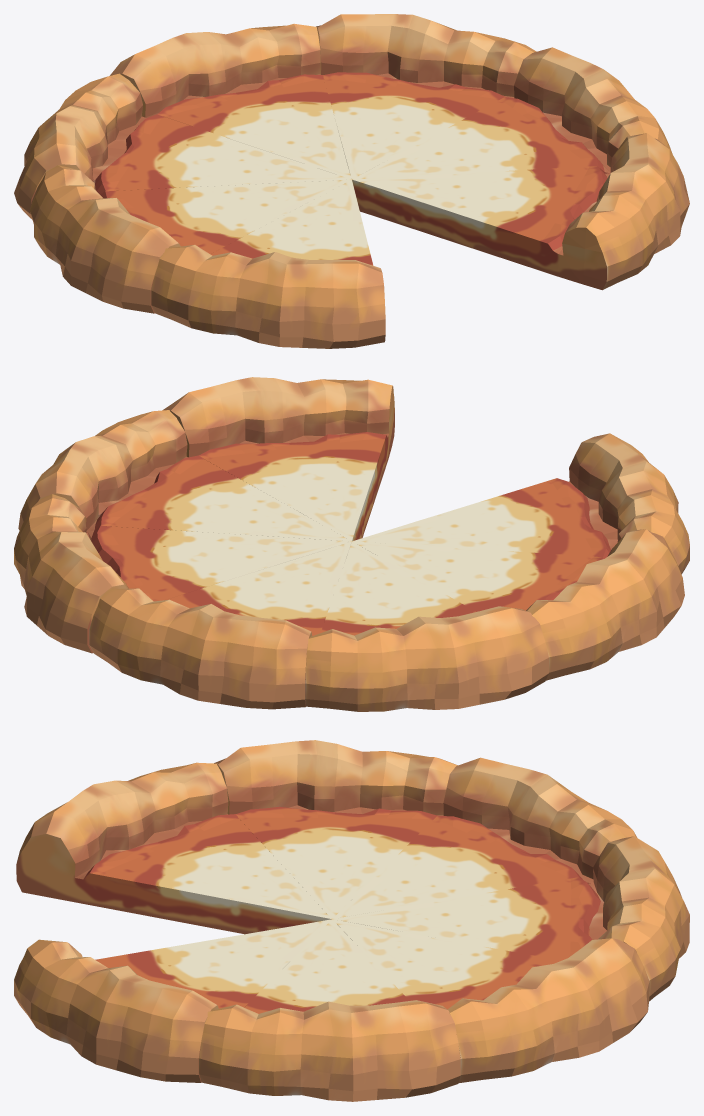
The model's file is pizza_P0.fbx.
3 renders of one model, top to bottom at view 1: azimuth 30°, elevation 25°; view 2: azimuth 150°, elevation 25°; view 3: azimuth 270°, elevation 25°, orthographic. The views are drawn at different scales.
Visible parts, largest first — view 1: Cylinder.003, Cylinder.007, Cylinder.001, Cylinder.005, Cylinder.006, Cylinder.002, Cylinder.004; view 2: Cylinder.004, Cylinder.006, Cylinder.003, Cylinder.005, Cylinder.001, Cylinder.002, Cylinder.007; view 3: Cylinder.007, Cylinder.002, Cylinder.001, Cylinder.003, Cylinder.005, Cylinder.004, Cylinder.006.
Part boxes in pixels (x1,y1,x2,y2): Cylinder.003: (352,133,689,290); Cylinder.007: (151,179,385,348); Cylinder.001: (316,14,536,179); Cylinder.005: (30,165,350,313); Cylinder.006: (110,23,351,179); Cylinder.002: (352,47,672,179); Cylinder.004: (14,73,351,219); Cylinder.004: (305,541,548,711); Cylinder.006: (89,541,351,709); Cylinder.003: (162,377,394,541); Cylinder.005: (352,529,684,680); Cylinder.001: (14,494,351,653); Cylinder.002: (18,410,351,541); Cylinder.007: (353,433,689,574); Cylinder.007: (16,762,331,934); Cylinder.002: (199,919,460,1101); Cylinder.001: (332,919,649,1082); Cylinder.003: (14,919,331,1082); Cylinder.005: (214,740,457,918); Cylinder.004: (333,757,637,918); Cylinder.006: (332,836,689,1001).
Bounding box in the file's own units: 322 × 37.49 × 304.
1 material, 1 textured.
